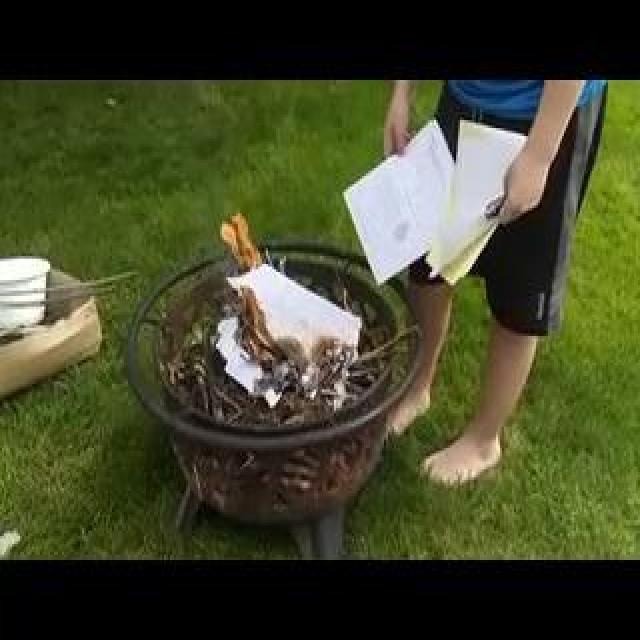Fire: (70, 170, 252, 290)
